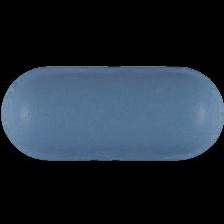0093-0755: (0, 0, 224, 224)
